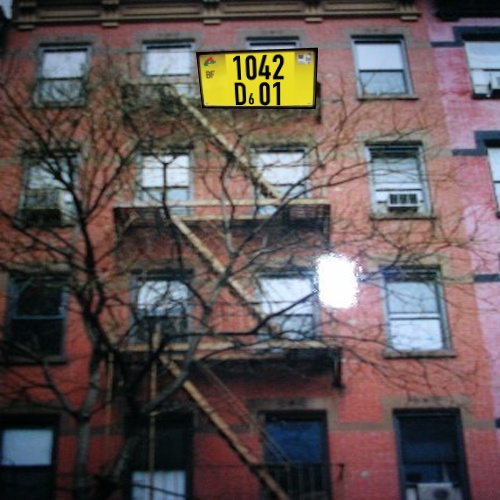plate: (186, 38, 322, 129)
